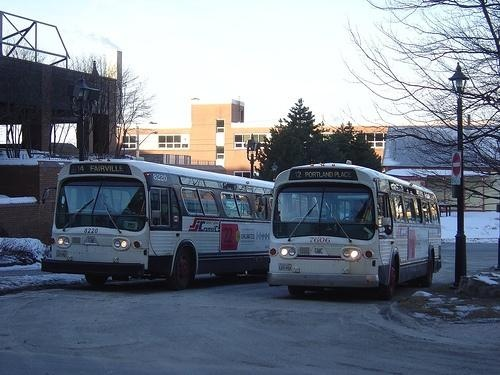bus: (40, 158, 275, 288), (268, 162, 442, 296)
